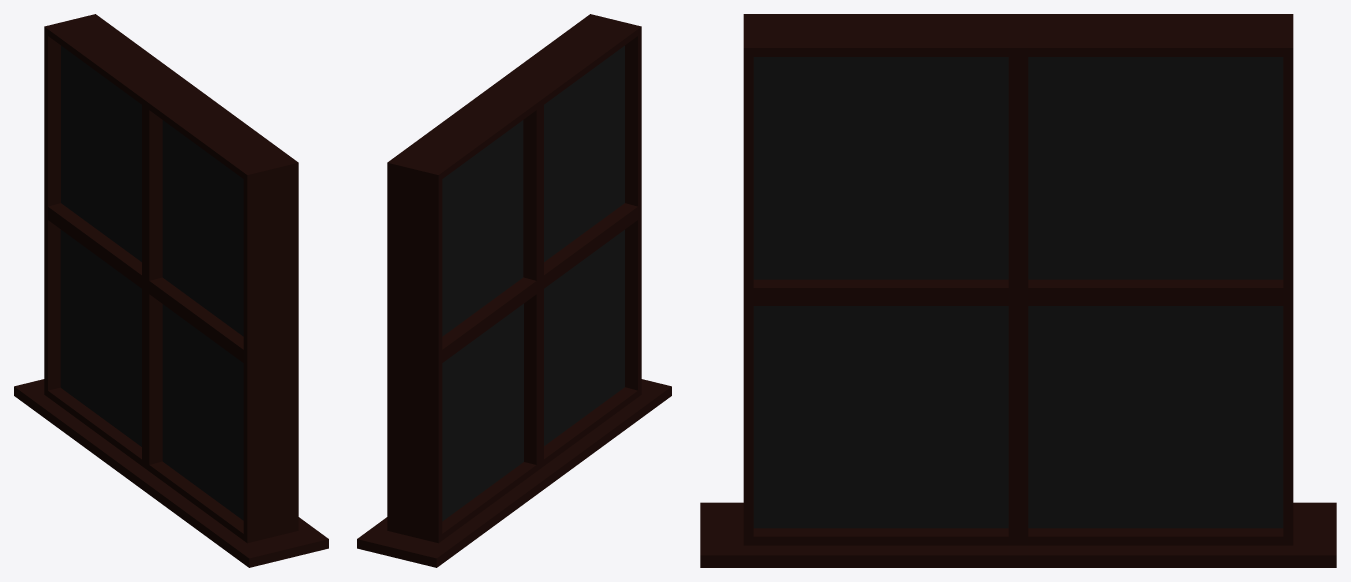
File: ventana 1.fbx
3 views of the same model, side by side, from view 1: azimuth 30°, elevation 25°; view 2: azimuth 150°, elevation 25°; view 3: azimuth 270°, elevation 25° (orthographic). The views are drawn at different scales.
Visible parts, largest first — view 1: Box001; view 2: Box001; view 3: Box001.
Boxes of the visible parts, x1=… form: Box001: x1=14, y1=14, x2=328, y2=567; Box001: x1=357, y1=14, x2=671, y2=567; Box001: x1=700, y1=14, x2=1336, y2=567.
Bounding box in the file's own units: 12.33 × 55.77 × 62.95.
